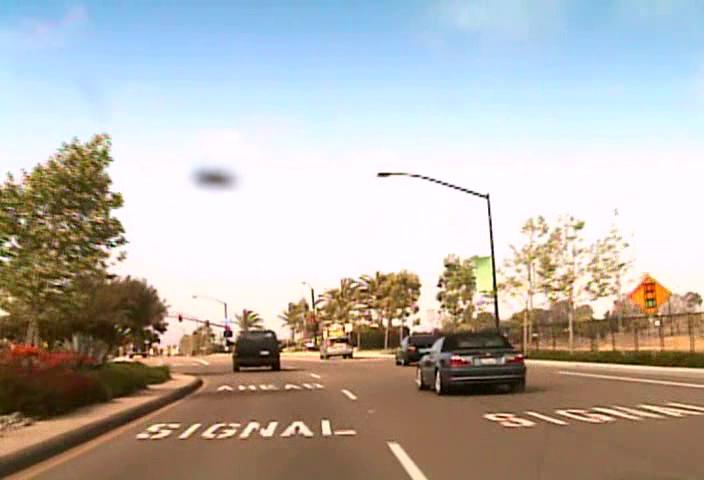signalAhead: (626, 275, 672, 316)
